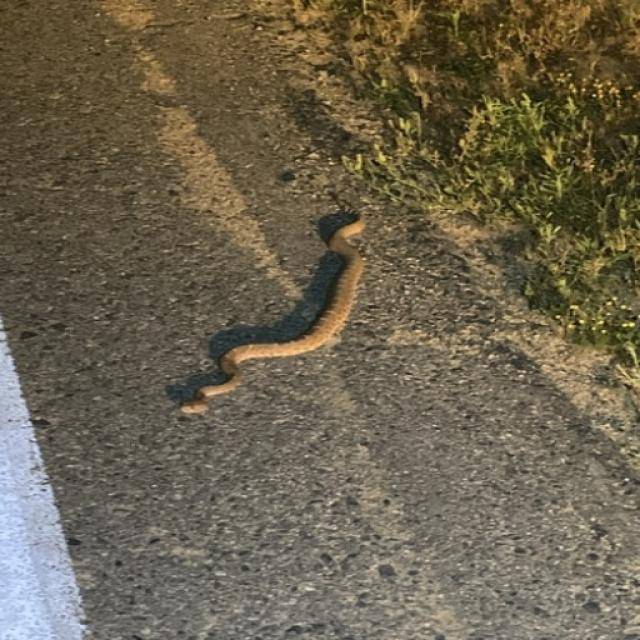snake: (175, 191, 386, 435)
